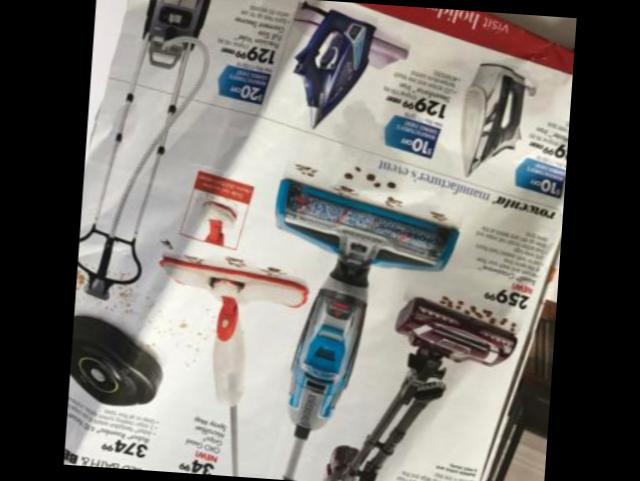cardboard paper: (63, 0, 574, 481)
